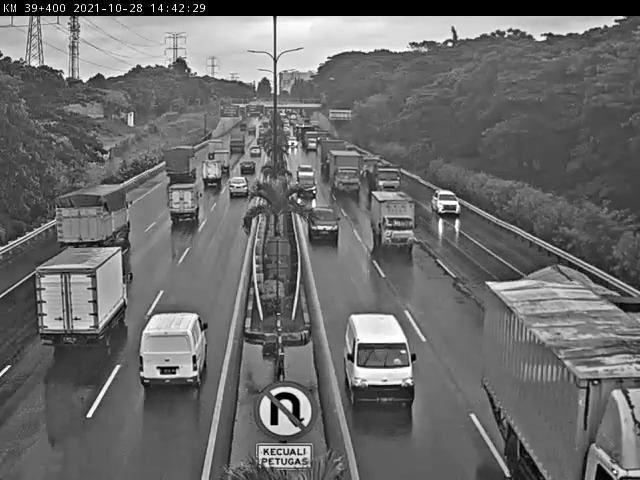car: (133, 310, 211, 394)
